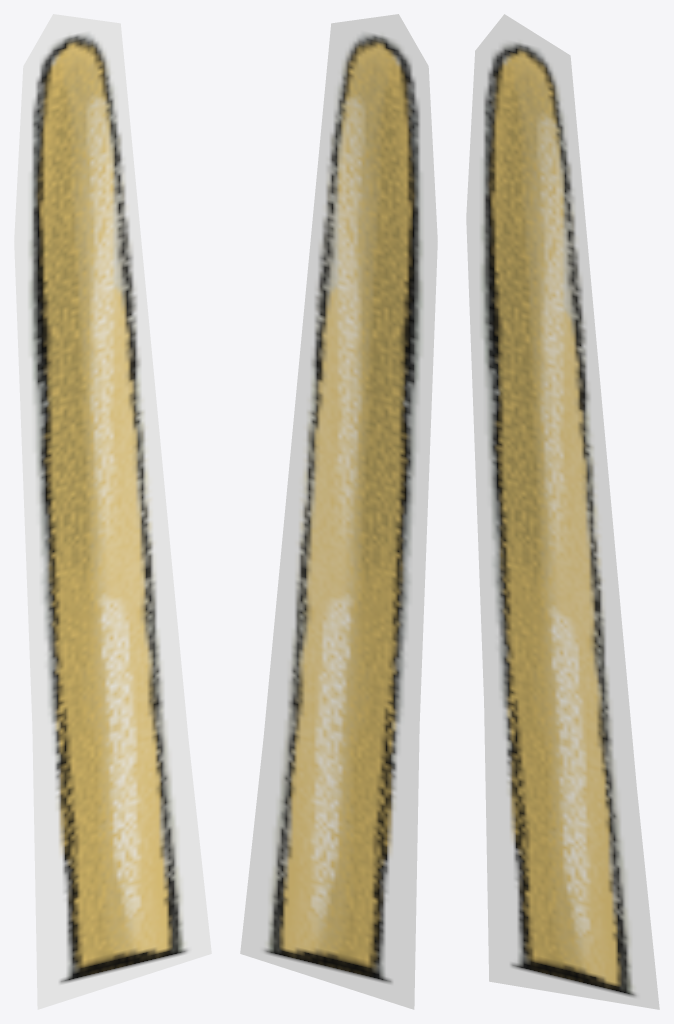
File: pistala_1.glb
3 views of the same model, side by side, from view 1: azimuth 30°, elevation 25°; view 2: azimuth 150°, elevation 25°; view 3: azimuth 330°, elevation 25° (orthographic). The views are drawn at different scales.
Visible parts, largest first — view 1: Plane.020; view 2: Plane.020; view 3: Plane.020.
Part boxes in pixels (x1=…): Plane.020: x1=14, y1=14, x2=211, y2=1009; Plane.020: x1=240, y1=14, x2=437, y2=1009; Plane.020: x1=466, y1=14, x2=659, y2=1009.
Bounding box in the file's own units: 1.24 × 5.95 × 0.
1 material, 1 textured.
